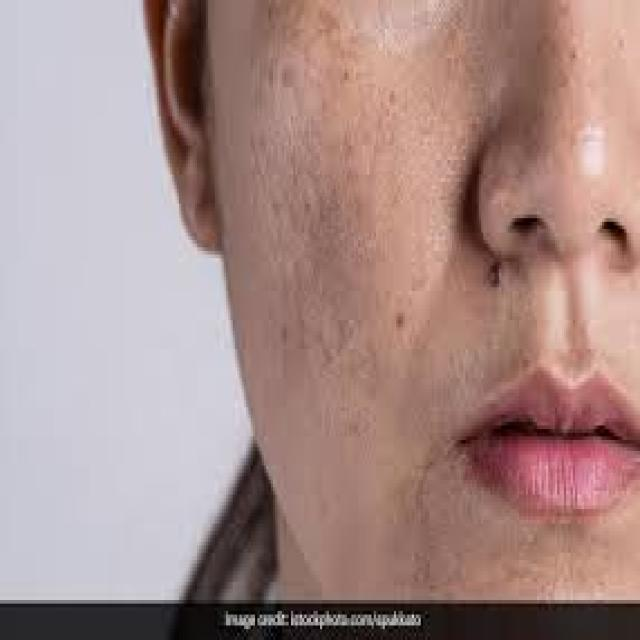Englarged-Pores: (208, 8, 479, 395)
Oily-Skin: (280, 48, 640, 542)
